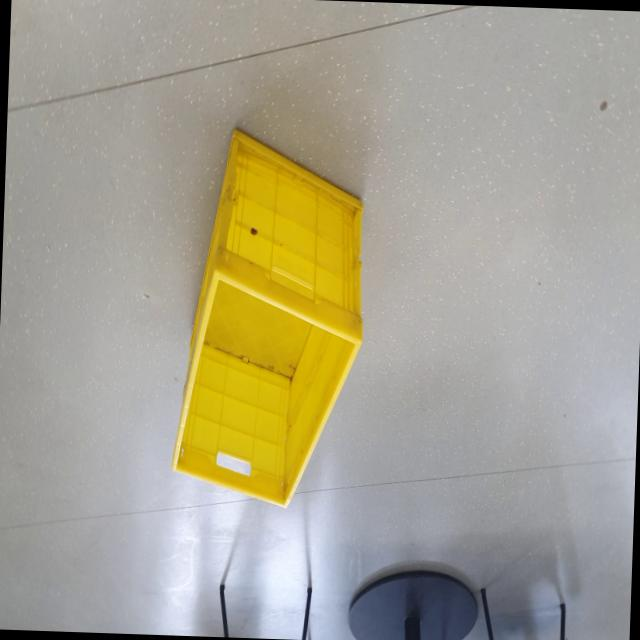box: (154, 120, 370, 518)
